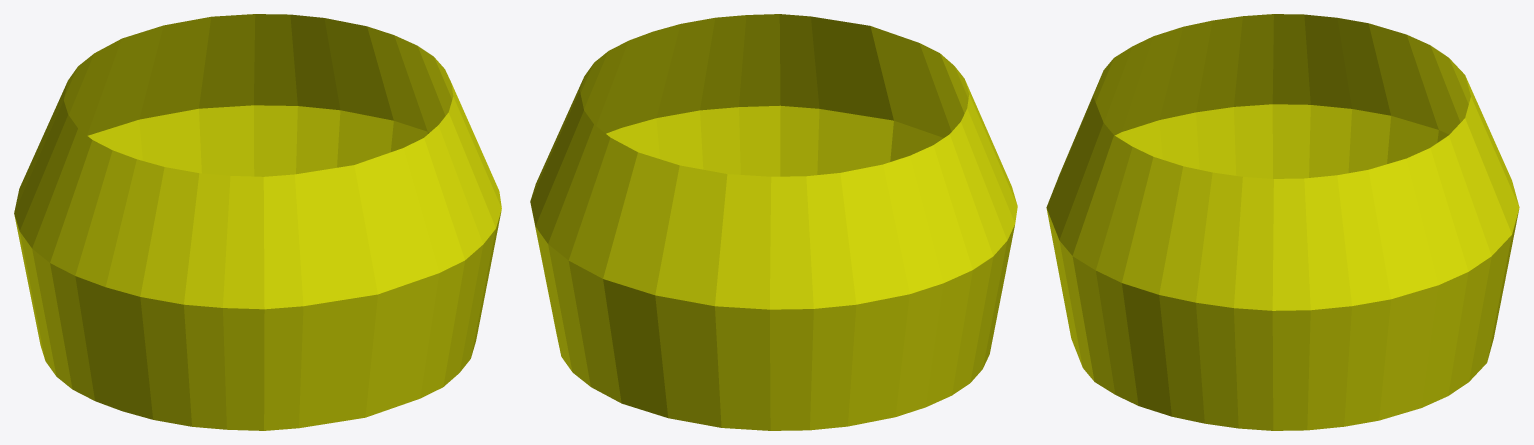
The model's file is collision_smallball.glb.
3 views of the same model, side by side, from view 1: azimuth 30°, elevation 25°; view 2: azimuth 150°, elevation 25°; view 3: azimuth 270°, elevation 25° (orthographic).
Parts seen in each view (by area): view 1: Collision_smallball; view 2: Collision_smallball; view 3: Collision_smallball.
Part boxes in pixels (x1,y1,x2,y2): Collision_smallball: [14, 14, 501, 430]; Collision_smallball: [530, 14, 1017, 430]; Collision_smallball: [1046, 14, 1519, 430].
Bounding box in the file's own units: 4.72 × 2.58 × 4.57.
